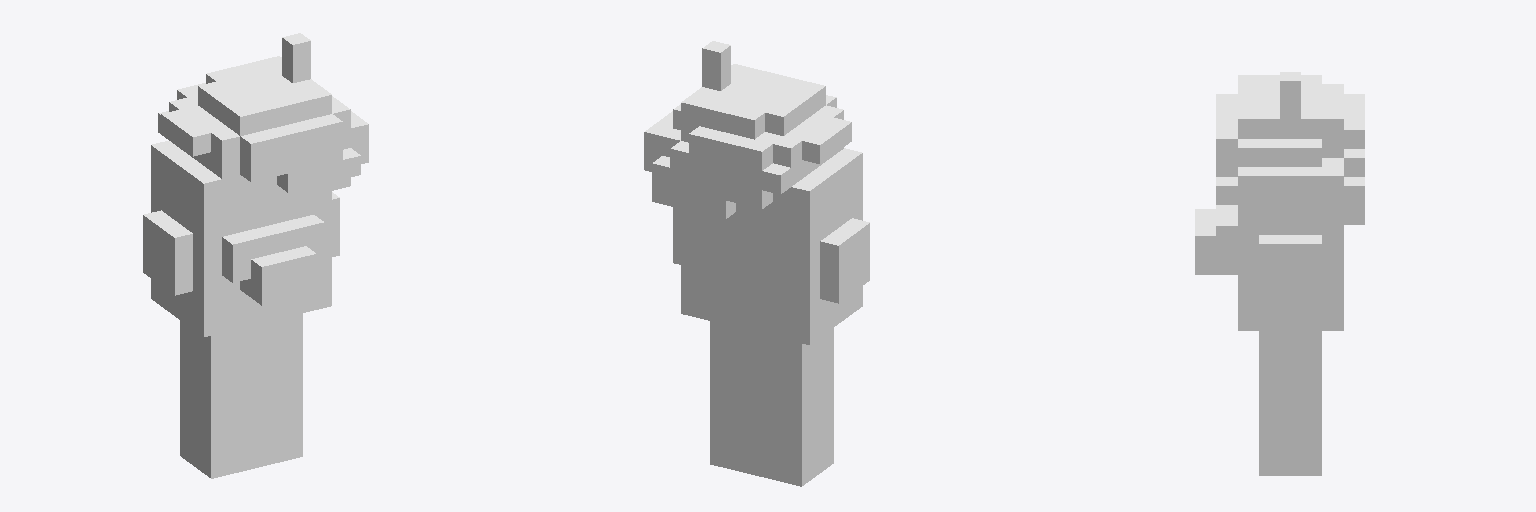
The model's file is gglive_mimicker_main.obj.
The picture shows the model from 3 angles: view 1: azimuth 30°, elevation 25°; view 2: azimuth 150°, elevation 25°; view 3: azimuth 270°, elevation 25°; orthographic projection.
Parts seen in each view (by area): view 1: gglive_mimicker_main; view 2: gglive_mimicker_main; view 3: gglive_mimicker_main.
Boxes of the visible parts, <box> form: gglive_mimicker_main: <box>143,33,368,478</box>; gglive_mimicker_main: <box>644,41,869,486</box>; gglive_mimicker_main: <box>1195,72,1364,475</box>.
Size of the model in its own units: 10 by 21 by 8.